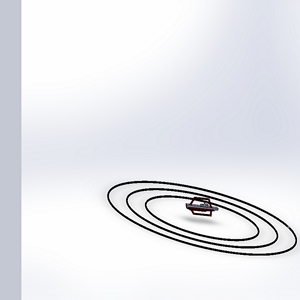circle: (96, 170, 300, 267)
submarine: (182, 190, 225, 221)
